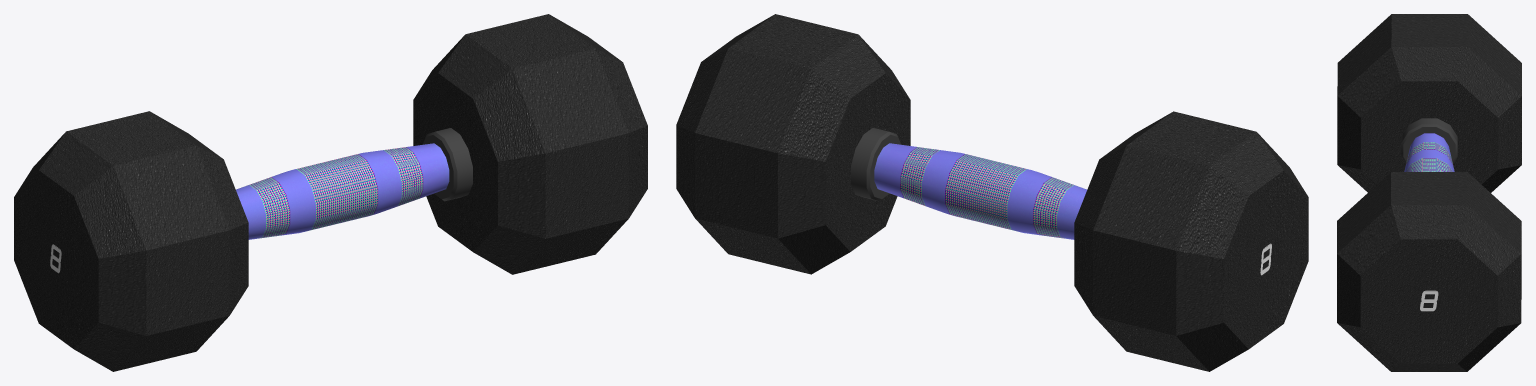
The model's file is Dumbbell_8kG.FBX.
The picture shows the model from 3 angles, left to right: view 1: azimuth 30°, elevation 25°; view 2: azimuth 150°, elevation 25°; view 3: azimuth 270°, elevation 25°; orthographic projection. The views are drawn at different scales.
Visible parts, largest first — view 1: Dumbbell_8kG; view 2: Dumbbell_8kG; view 3: Dumbbell_8kG.
Boxes of the visible parts, left/top/right/bottom form: Dumbbell_8kG: left=14, top=14, right=647, bottom=371; Dumbbell_8kG: left=676, top=14, right=1308, bottom=371; Dumbbell_8kG: left=1337, top=14, right=1521, bottom=371.
Size of the model in its own units: 0.3277 by 0.1178 by 0.1174.
